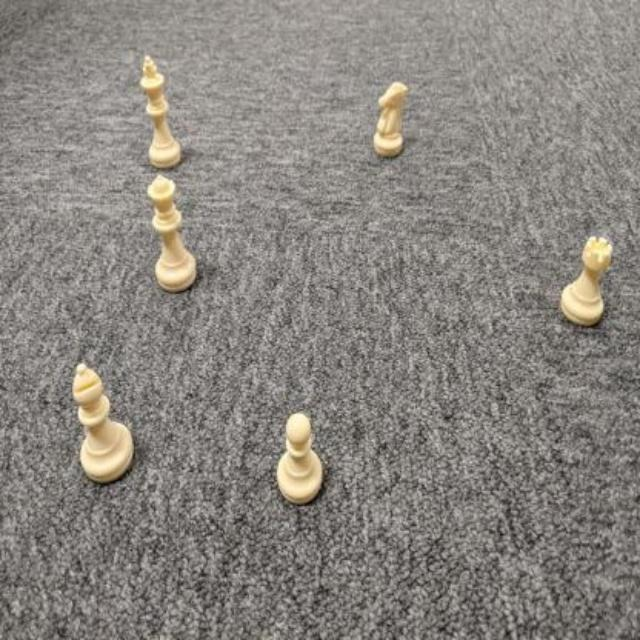white-bishop: (71, 362, 132, 484)
white-king: (140, 52, 183, 170)
white-knight: (373, 80, 408, 160)
white-pawn: (276, 412, 325, 504)
white-queen: (147, 174, 197, 294)
white-rook: (560, 233, 614, 326)
